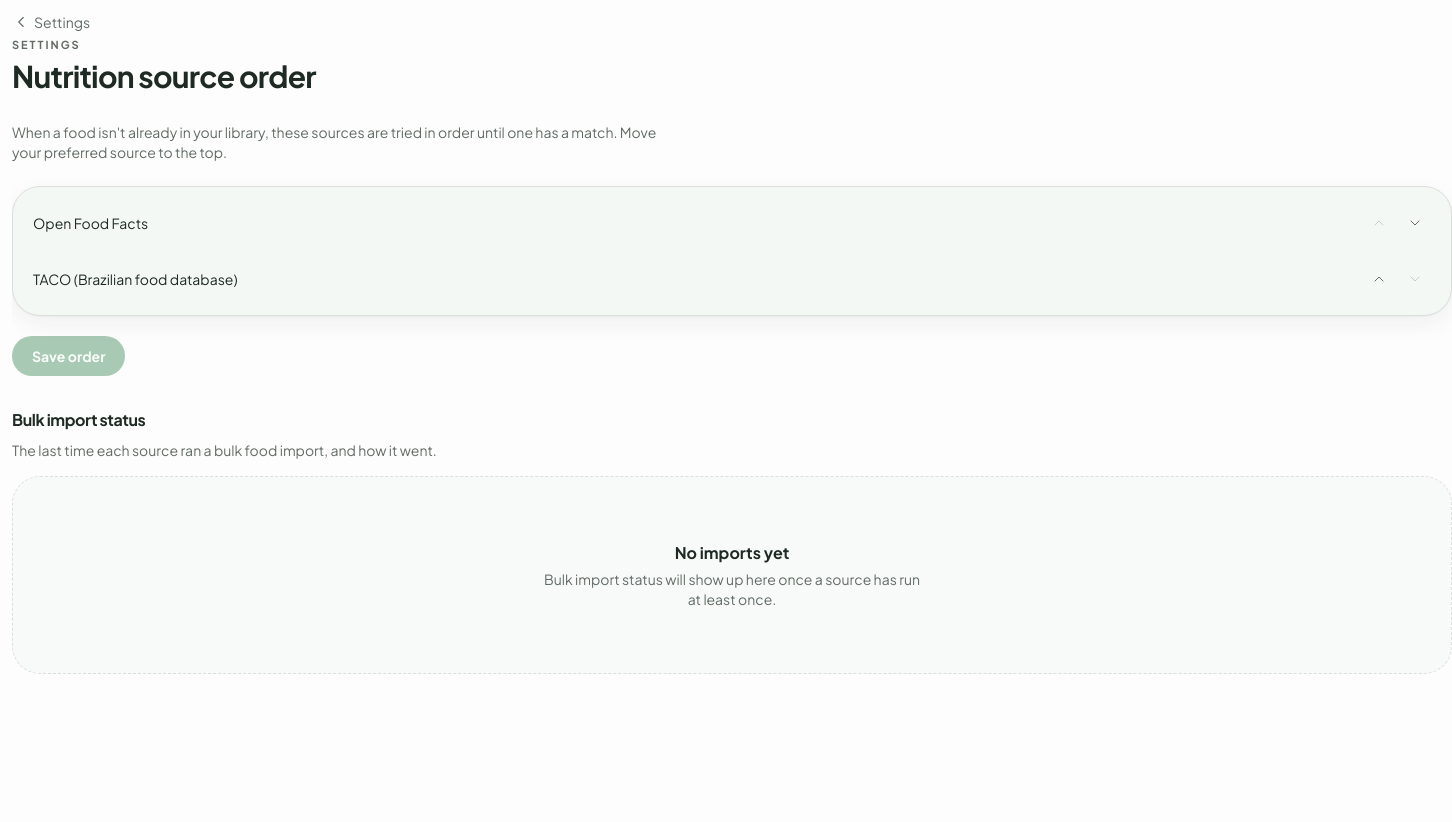
Test: SourcePrecedence › reorders on move up/down, enabling Save only while dirty
expect the text "Open Food Facts" is shown: met, box [33,214,148,232]
expect the button "Save order" is disabled: met, box [12,336,125,376]
Click the button named "Move Open Food Facts down": x=1415, y=222 [1399,206,1431,238]
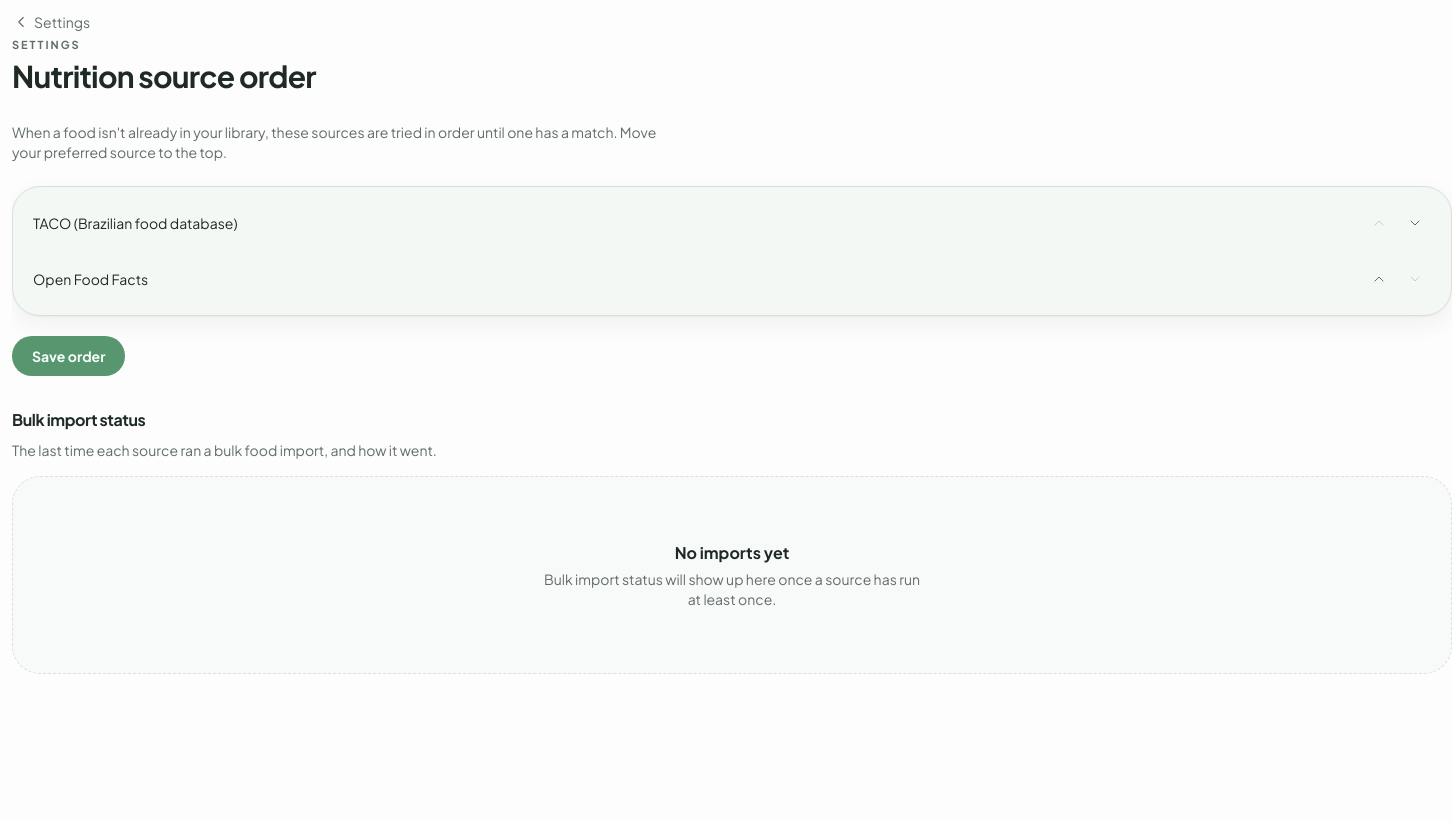
expect the button "Save order" is enabled: met, box [12,336,125,376]
